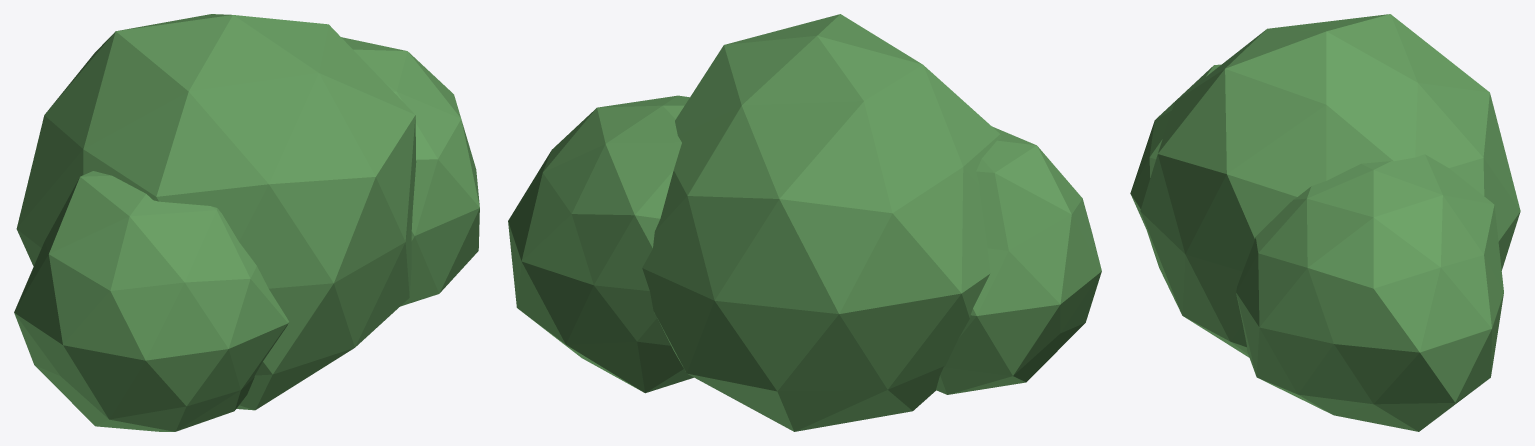
File: bush.glb
3 renders of one model, left to right at view 1: azimuth 30°, elevation 25°; view 2: azimuth 150°, elevation 25°; view 3: azimuth 270°, elevation 25°, orthographic. The views are drawn at different scales.
Visible parts, largest first — view 1: bush; view 2: bush; view 3: bush.
Part boxes in pixels (left/top/right/bottom): bush: left=14, top=14, right=479, bottom=431; bush: left=508, top=14, right=1101, bottom=431; bush: left=1130, top=14, right=1520, bottom=431.
Bounding box in the file's own units: 2.26 × 1.7 × 1.65.
